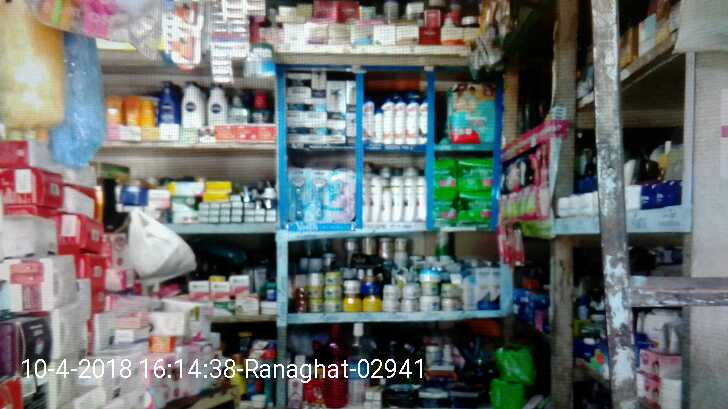venus: (330, 168, 356, 222), (310, 167, 330, 220), (290, 167, 310, 220)
